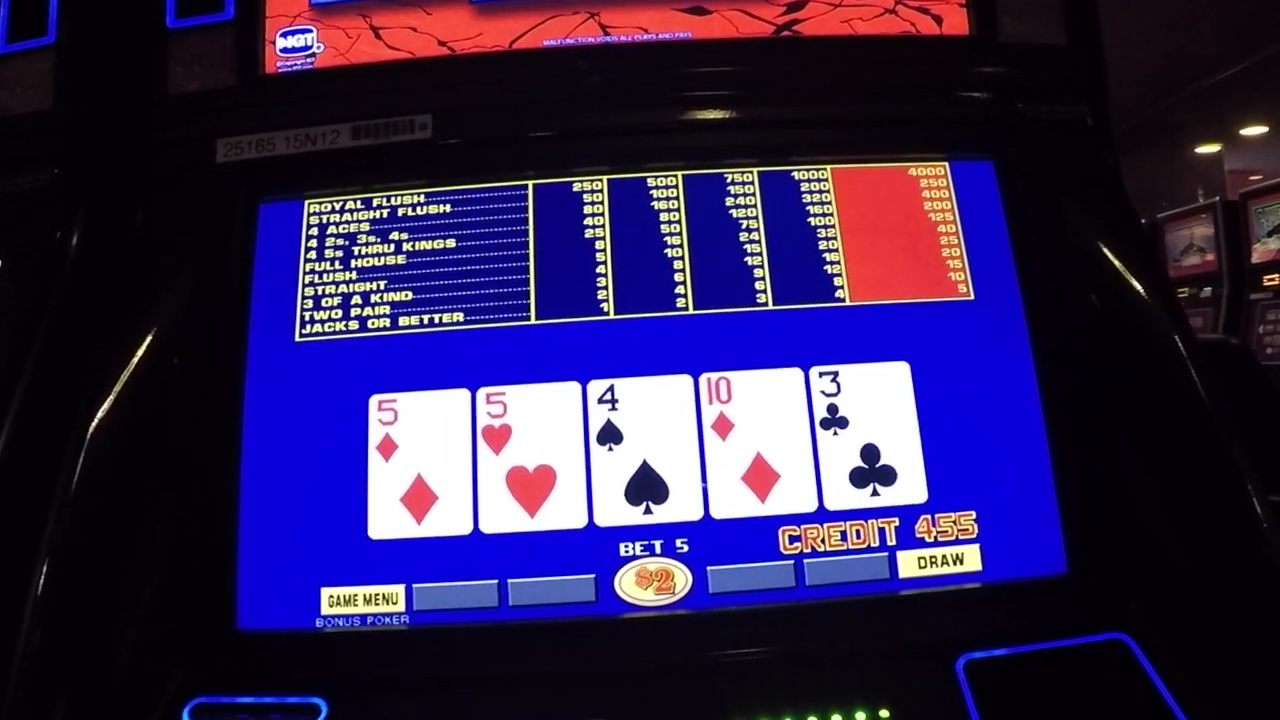C3: (817, 369, 912, 439)
D5: (373, 394, 466, 464)
DT: (706, 371, 805, 443)
H5: (479, 387, 581, 454)
S4: (589, 380, 692, 458)
